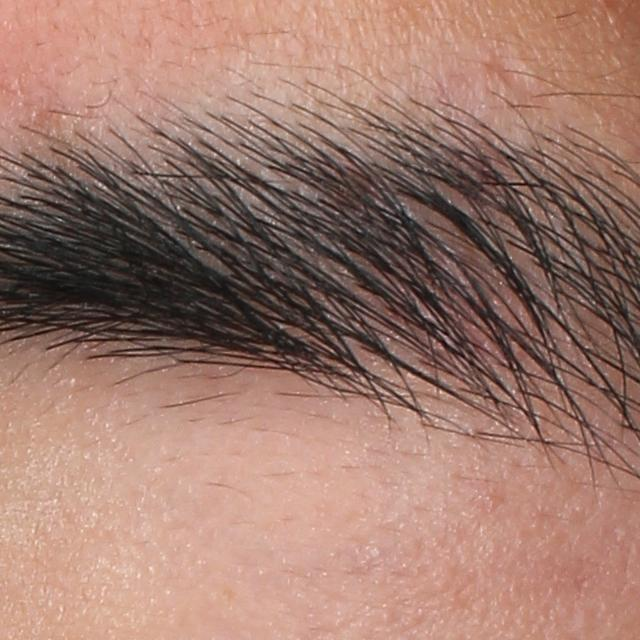atrophic_scar: (481, 50, 538, 100)
